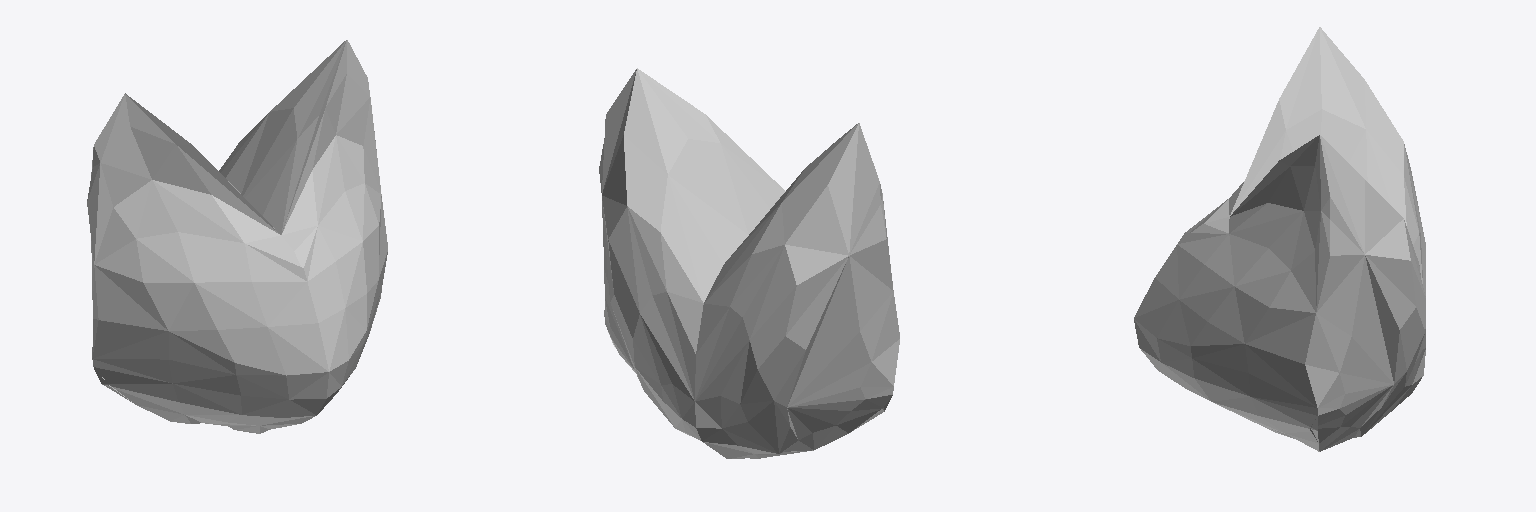
The model's file is cat_model head.obj.
3 renders of one model, left to right at view 1: azimuth 30°, elevation 25°; view 2: azimuth 150°, elevation 25°; view 3: azimuth 270°, elevation 25°, orthographic.
Visible parts, largest first — view 1: Plane; view 2: Plane; view 3: Plane.
Part boxes in pixels (x1,y1,x2,y2): Plane: (87,40,387,433); Plane: (599,68,899,458); Plane: (1134,27,1425,451).
Size of the model in its own units: 2.13 by 2.46 by 1.86.